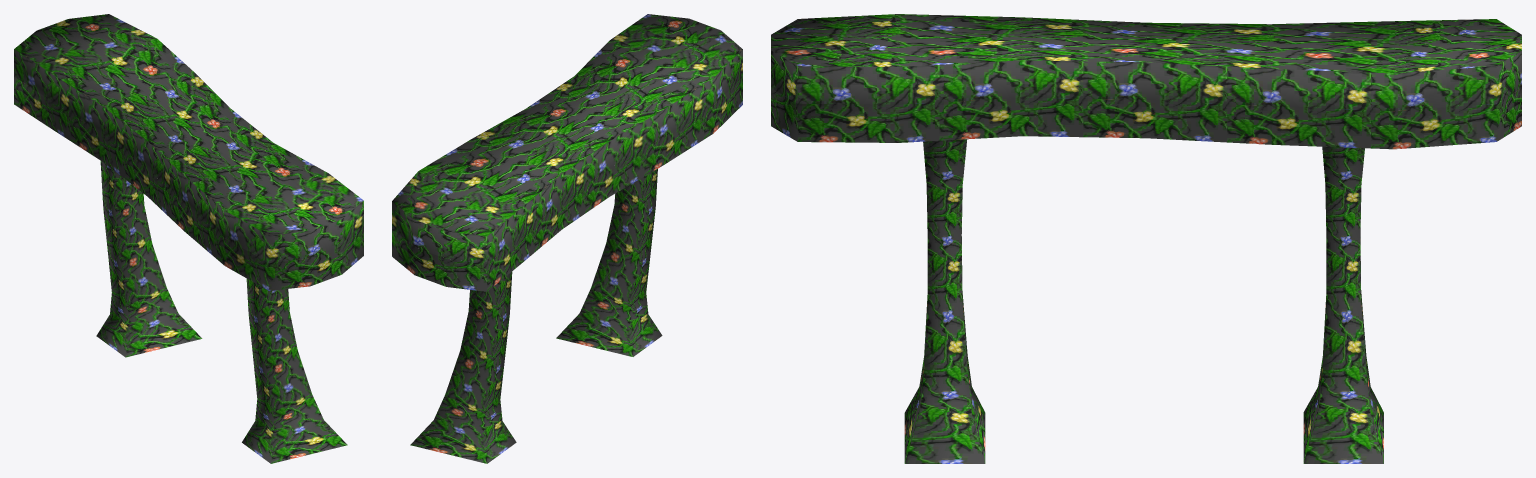
File: EKH_THRONE_PS_TH_PILLAR48847__GX.fbx
3 renders of one model, left to right at view 1: azimuth 30°, elevation 25°; view 2: azimuth 150°, elevation 25°; view 3: azimuth 270°, elevation 25°, orthographic. The views are drawn at different scales.
Visible parts, largest first — view 1: EKH_THRONE_PS_TH_PILLAR48847__GX; view 2: EKH_THRONE_PS_TH_PILLAR48847__GX; view 3: EKH_THRONE_PS_TH_PILLAR48847__GX.
Part boxes in pixels (box(x1,y1,x2,y2)): EKH_THRONE_PS_TH_PILLAR48847__GX: box(14, 14, 363, 463); EKH_THRONE_PS_TH_PILLAR48847__GX: box(392, 14, 742, 463); EKH_THRONE_PS_TH_PILLAR48847__GX: box(771, 14, 1521, 463).
Size of the model in its own units: 34318 by 72882 by 129686.
Materials: 8 (8 with a texture image).
